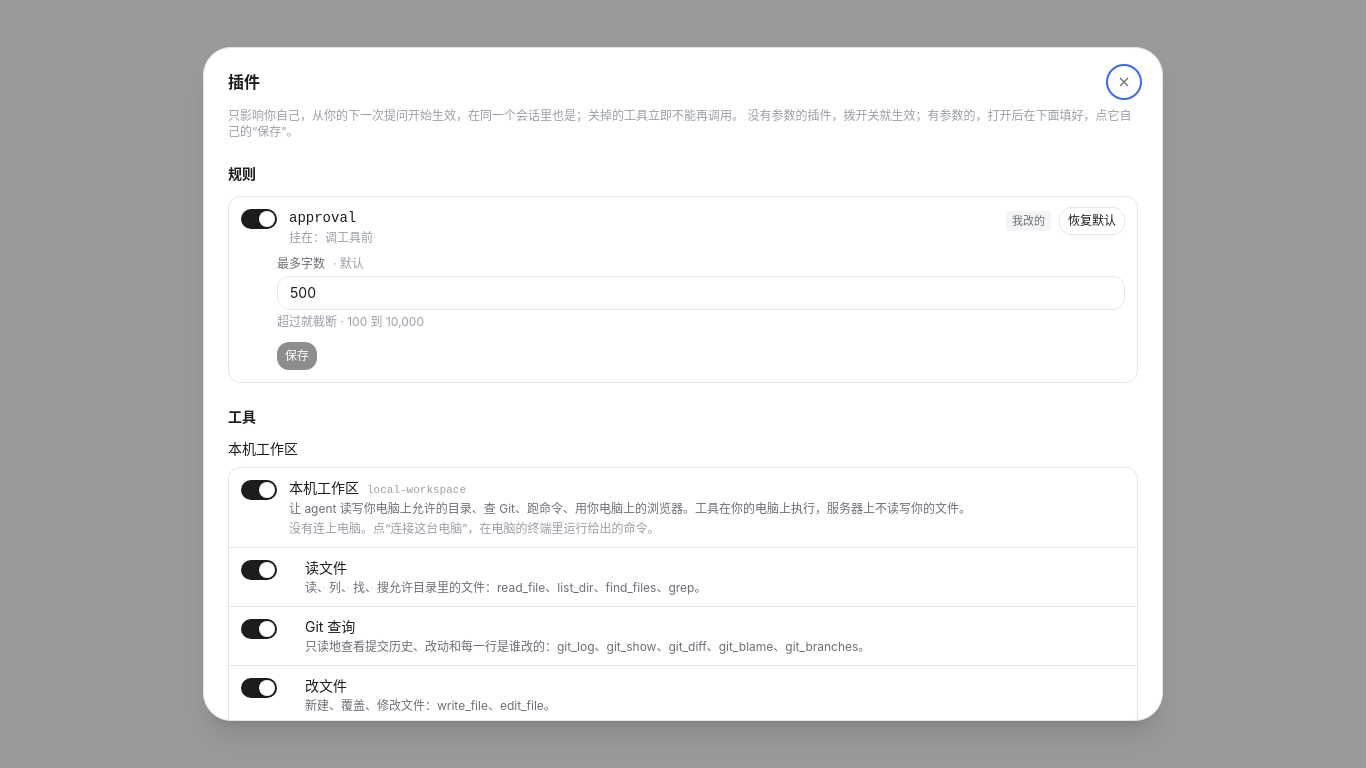
Test: PluginsDialog with settings › marks a switch I changed and puts it back to the default on request
Check: the text "我改的" is shown, box top-left (1006, 211), bottom-right (1051, 231)
Click the button with aria-label "approval 恢复默认" at (1092, 221), box top-left (1059, 207), bottom-right (1125, 235)
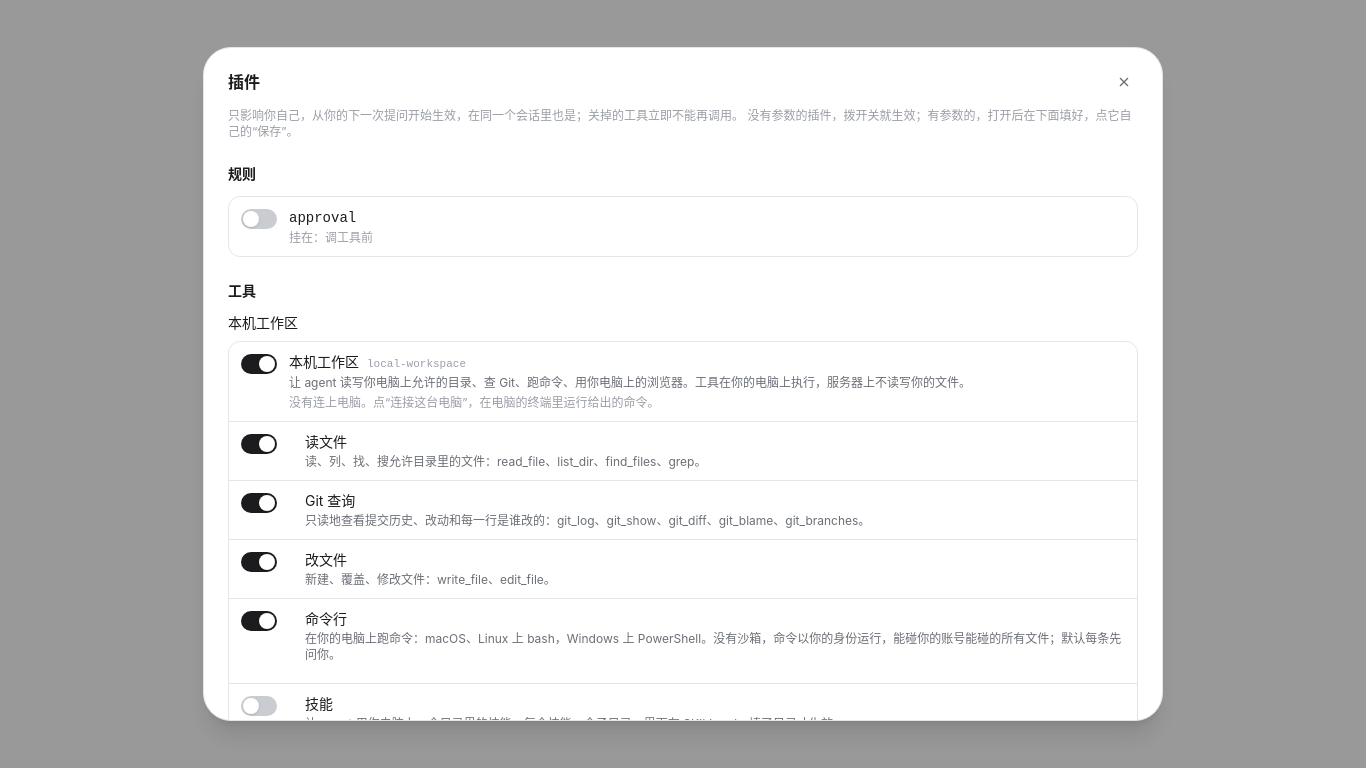
Check: the text "我改的" is gone
